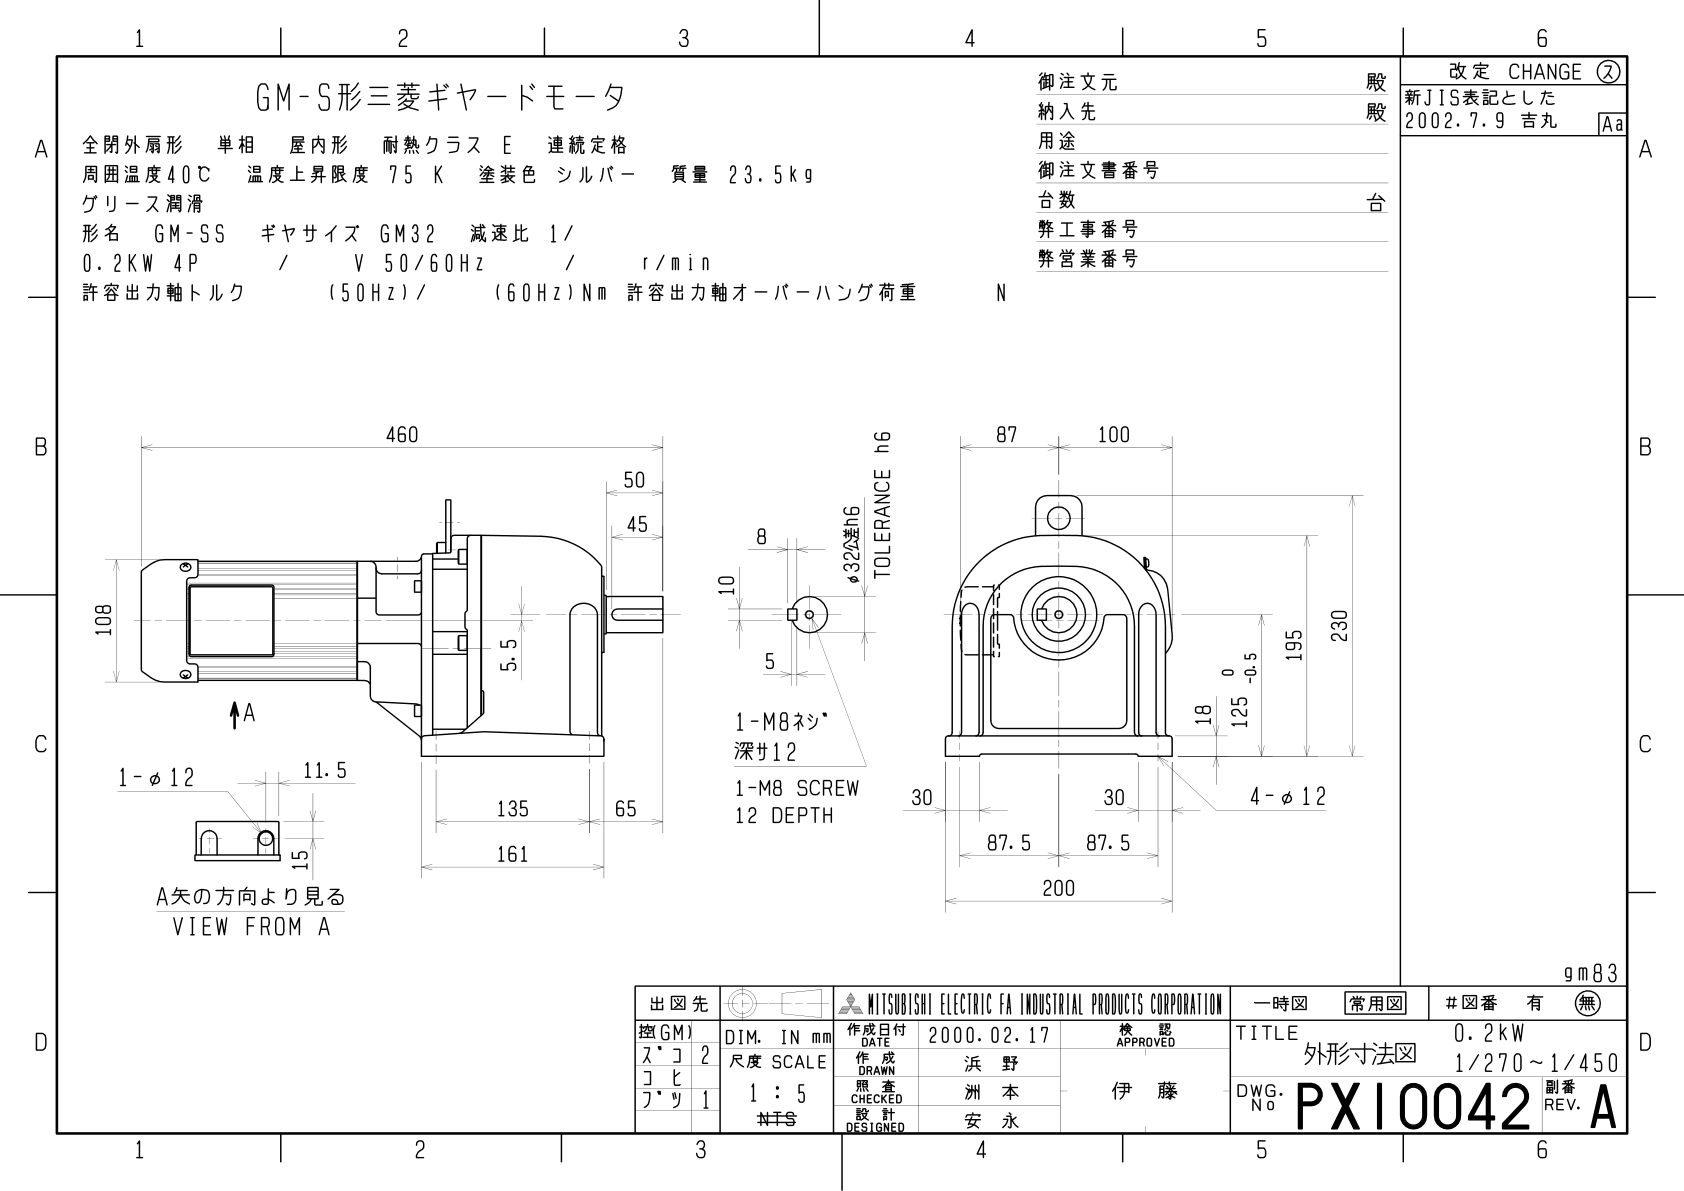GM_S_屋内＿単相_脚: (12, 6, 1684, 1191)
